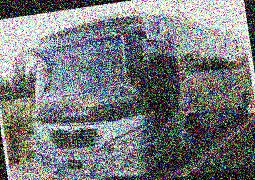bus: (2, 0, 255, 180)
